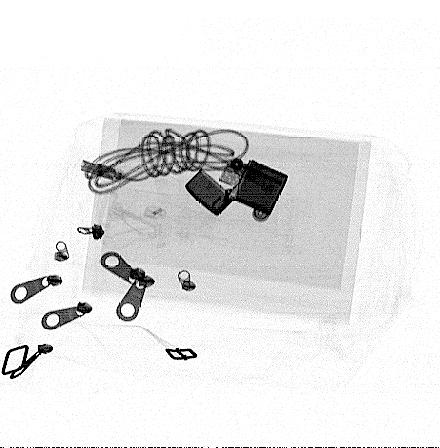Lighter: (185, 158, 289, 218)
